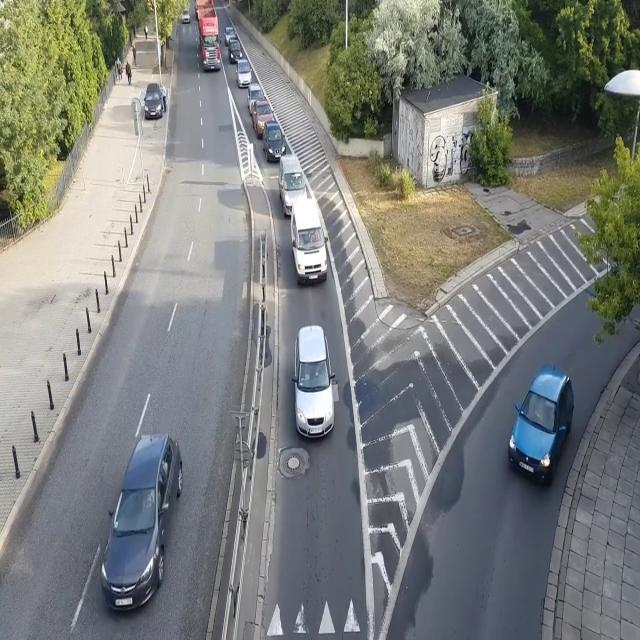car: (99, 431, 184, 618), (509, 364, 576, 490), (290, 323, 336, 440), (250, 96, 275, 140), (262, 121, 286, 163), (144, 82, 163, 119), (246, 84, 267, 115), (236, 58, 252, 88), (224, 26, 237, 46), (181, 9, 191, 23)
truck: (194, 0, 222, 72)
van: (290, 197, 328, 285), (279, 154, 308, 218), (228, 38, 243, 62)
